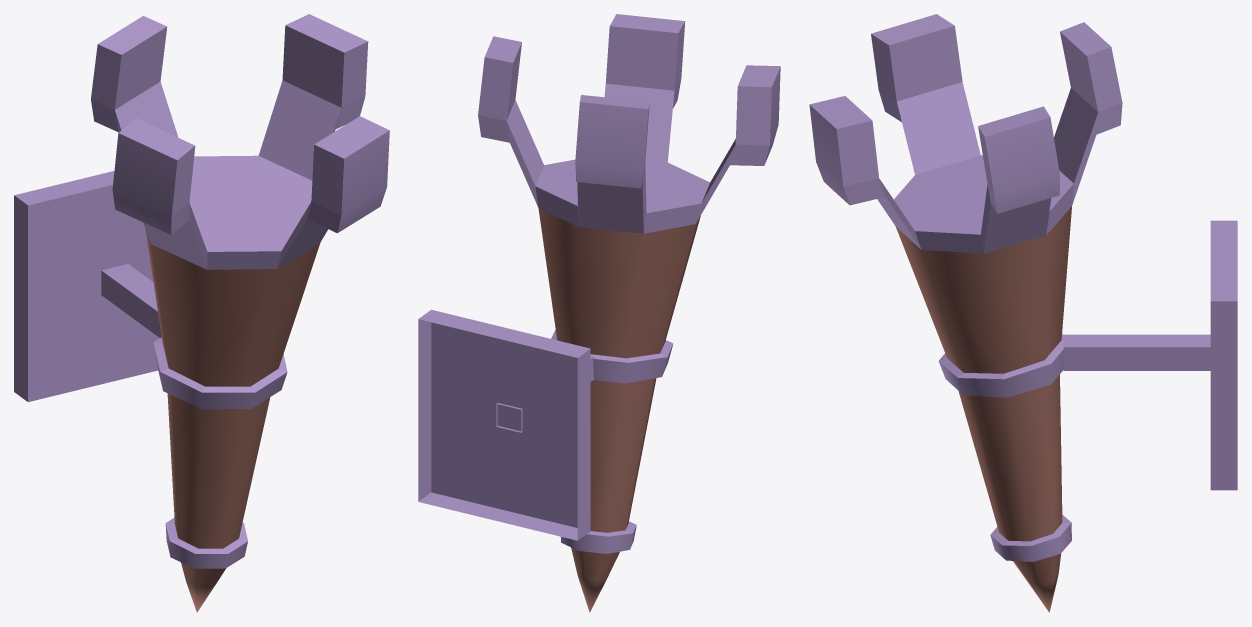
File: TorchFBX.FBX
3 renders of one model, left to right at view 1: azimuth 30°, elevation 25°; view 2: azimuth 150°, elevation 25°; view 3: azimuth 270°, elevation 25°, orthographic. The views are drawn at different scales.
Parts seen in each view (by area): view 1: Object; view 2: Object; view 3: Object.
Part boxes in pixels (box(x1,y1,x2,y2)): Object: box(14, 14, 389, 612); Object: box(418, 14, 780, 612); Object: box(809, 14, 1237, 612).
Bounding box in the file's own units: 11.36 × 22.53 × 15.72.
